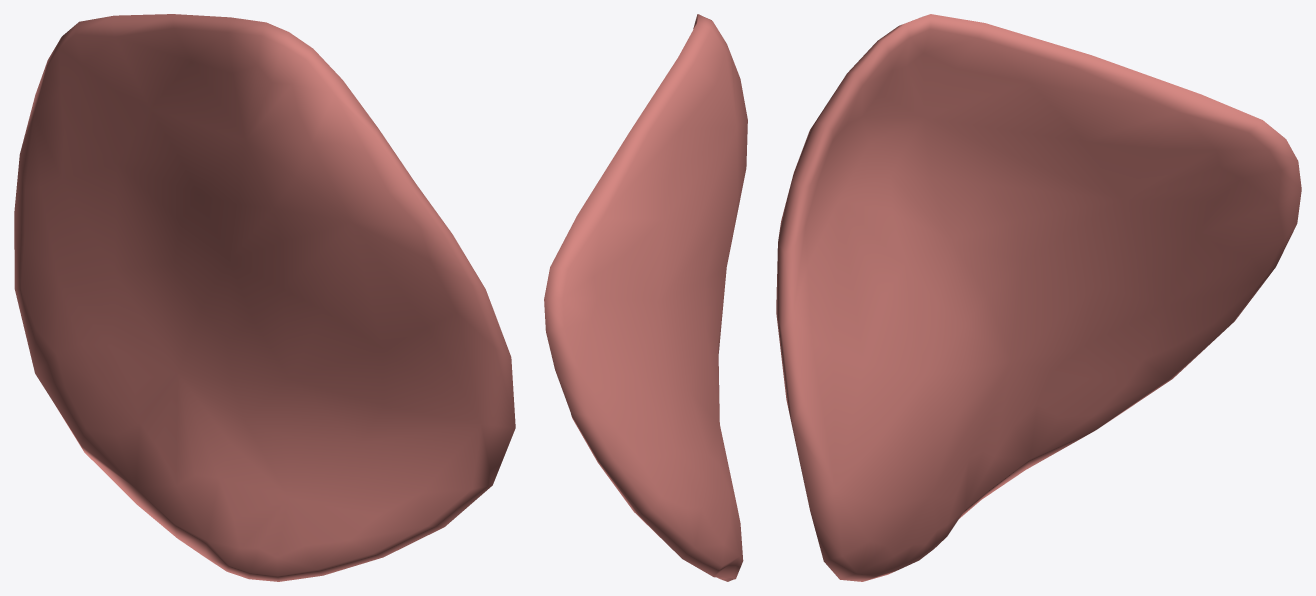
3 renders of one model, left to right at view 1: azimuth 30°, elevation 25°; view 2: azimuth 150°, elevation 25°; view 3: azimuth 270°, elevation 25°, orthographic.
Visible parts, largest first — view 1: ZA_ff385f3b8cc50f18; view 2: ZA_ff385f3b8cc50f18; view 3: ZA_ff385f3b8cc50f18.
Boxes of the visible parts, x1,y1,x2,y2 form: ZA_ff385f3b8cc50f18: [14, 14, 515, 581]; ZA_ff385f3b8cc50f18: [544, 14, 747, 581]; ZA_ff385f3b8cc50f18: [776, 14, 1301, 581].
Size of the model in its own units: 0.0058 by 0.0101 by 0.00875.
